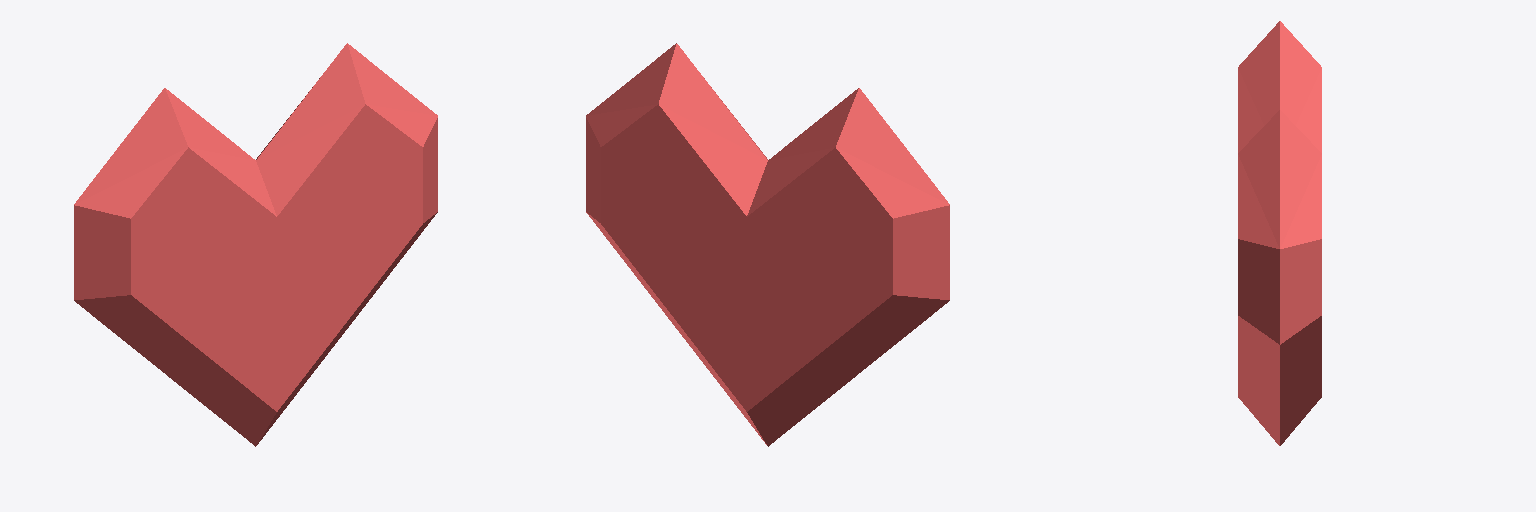
The picture shows the model from 3 angles: view 1: azimuth 30°, elevation 25°; view 2: azimuth 150°, elevation 25°; view 3: azimuth 270°, elevation 25°; orthographic projection.
Parts seen in each view (by area): view 1: Life_立方体; view 2: Life_立方体; view 3: Life_立方体.
Part boxes in pixels (left/top/right/bottom): Life_立方体: left=74, top=43, right=437, bottom=446; Life_立方体: left=586, top=43, right=949, bottom=446; Life_立方体: left=1238, top=21, right=1321, bottom=445.
Bounding box in the file's own units: 2 × 2 × 0.4.
Materials: 1 (1 with a texture image).